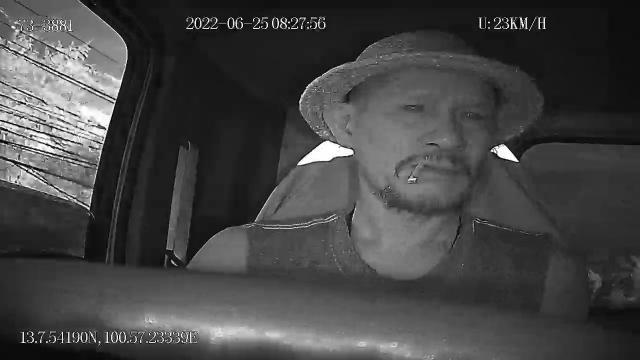SafeDriving: (395, 94, 433, 120)
Smoking: (408, 160, 426, 187)
